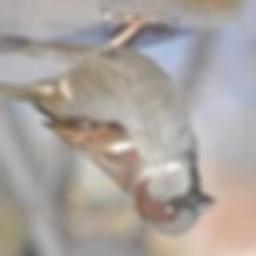Sparrow: (0, 15, 218, 237)
